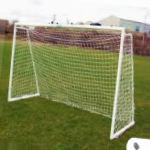goals: (8, 21, 137, 138)
